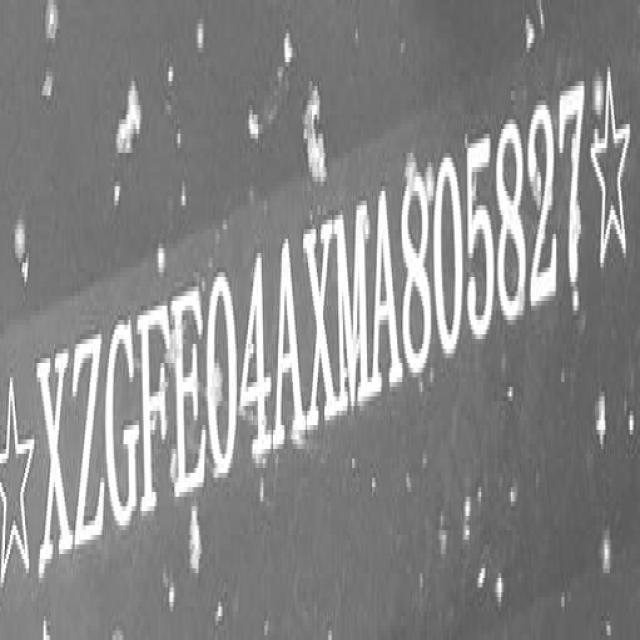0: (206, 260, 238, 483), (434, 149, 464, 363)
2: (528, 105, 558, 318)
4: (242, 252, 272, 467)
5: (464, 125, 495, 349)
7: (560, 74, 586, 304)
8: (402, 165, 433, 380), (498, 115, 528, 331)
A: (274, 236, 304, 450), (372, 186, 400, 399)
E: (174, 283, 207, 499)
F: (142, 302, 174, 515)
G: (107, 316, 140, 537)
M: (338, 197, 372, 417)
X: (303, 212, 340, 435), (41, 348, 74, 569)
Z: (73, 330, 104, 551)
